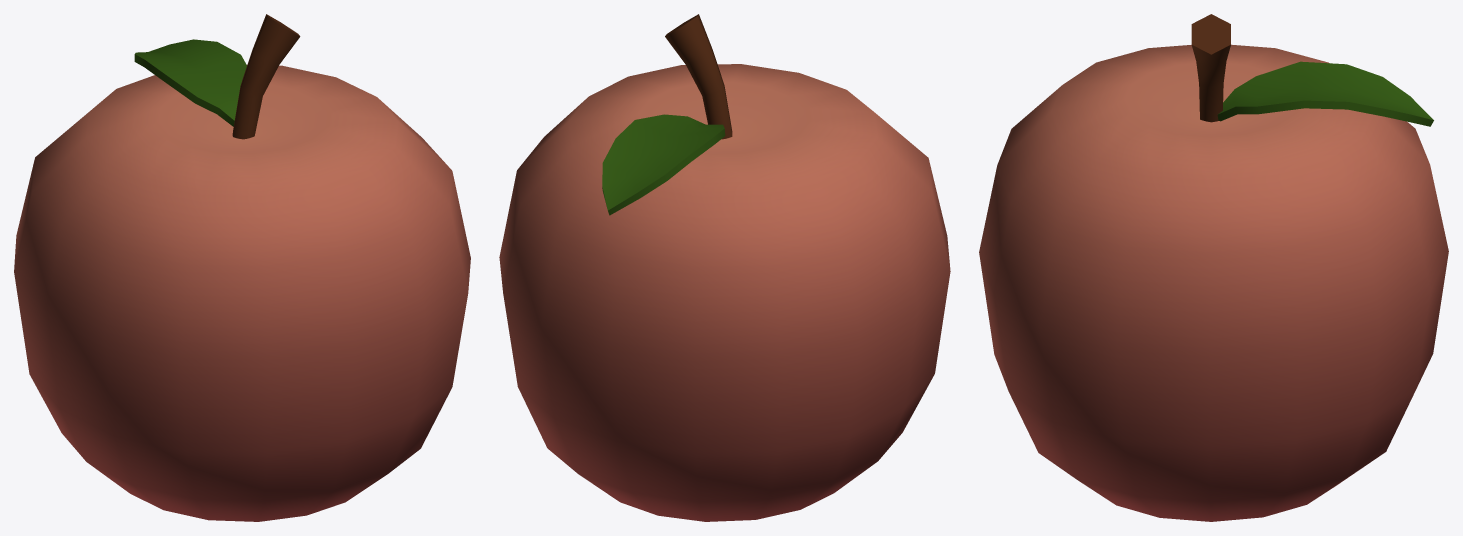
The model's file is Apple.fbx.
The picture shows the model from 3 angles, left to right: view 1: azimuth 30°, elevation 25°; view 2: azimuth 150°, elevation 25°; view 3: azimuth 270°, elevation 25°; orthographic projection. The views are drawn at different scales.
Parts seen in each view (by area): view 1: Sphere016, Line005, Cylinder004; view 2: Sphere016, Line005, Cylinder004; view 3: Sphere016, Line005, Cylinder004.
Part boxes in pixels (left/top/right/bottom): Sphere016: left=14, top=65, right=470, bottom=521; Line005: left=134, top=39, right=246, bottom=126; Cylinder004: left=232, top=14, right=300, bottom=139; Sphere016: left=499, top=64, right=950, bottom=521; Line005: left=602, top=114, right=725, bottom=215; Cylinder004: left=665, top=14, right=732, bottom=139; Sphere016: left=979, top=44, right=1448, bottom=521; Line005: left=1217, top=61, right=1433, bottom=126; Cylinder004: left=1191, top=14, right=1230, bottom=122.
Size of the model in its own units: 131 by 145 by 132.
